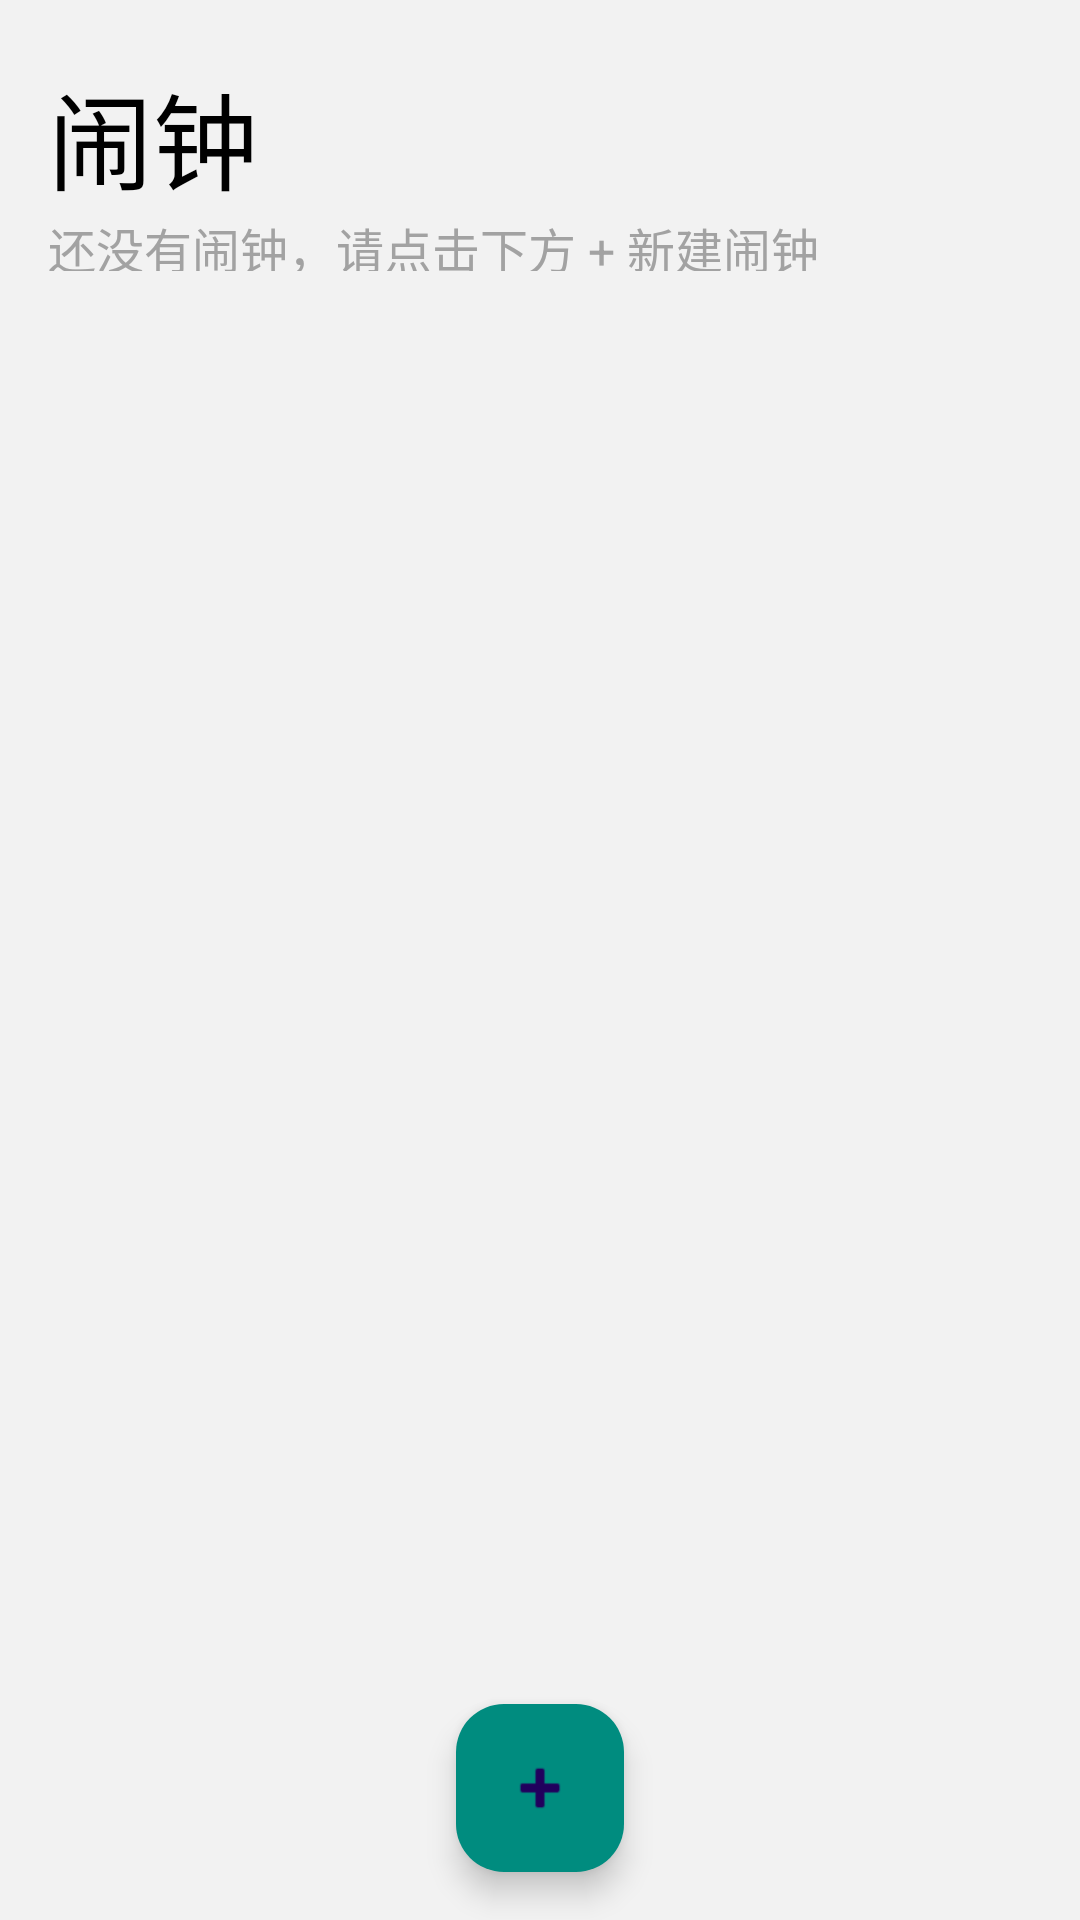

Icon click points for this 1080w x 1920h phone screenshot, format point (x, y):
新建闹钟: point (540, 1788)
